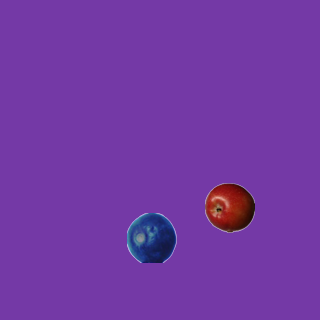Apple Braeburn: (204, 182, 254, 232)
Huckleberry: (126, 212, 176, 262)
